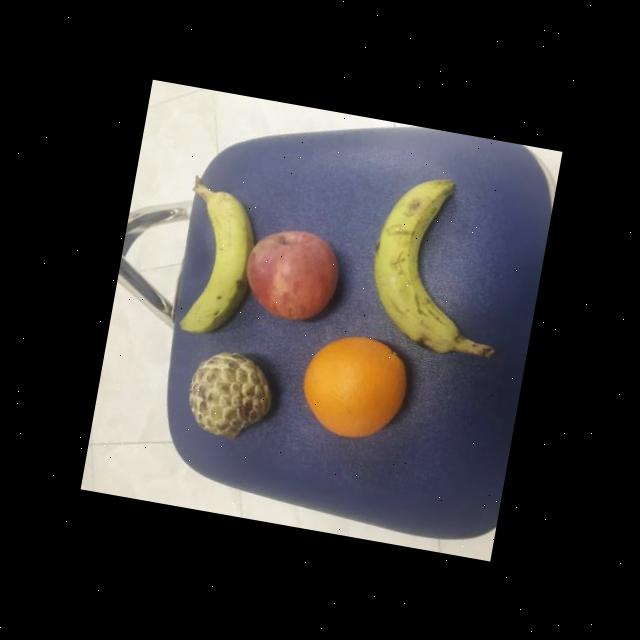Sakya fruit: (178, 343, 280, 446)
apple: (237, 221, 346, 330)
banana: (352, 166, 484, 358), (168, 180, 262, 345)
orange: (292, 326, 412, 448)
